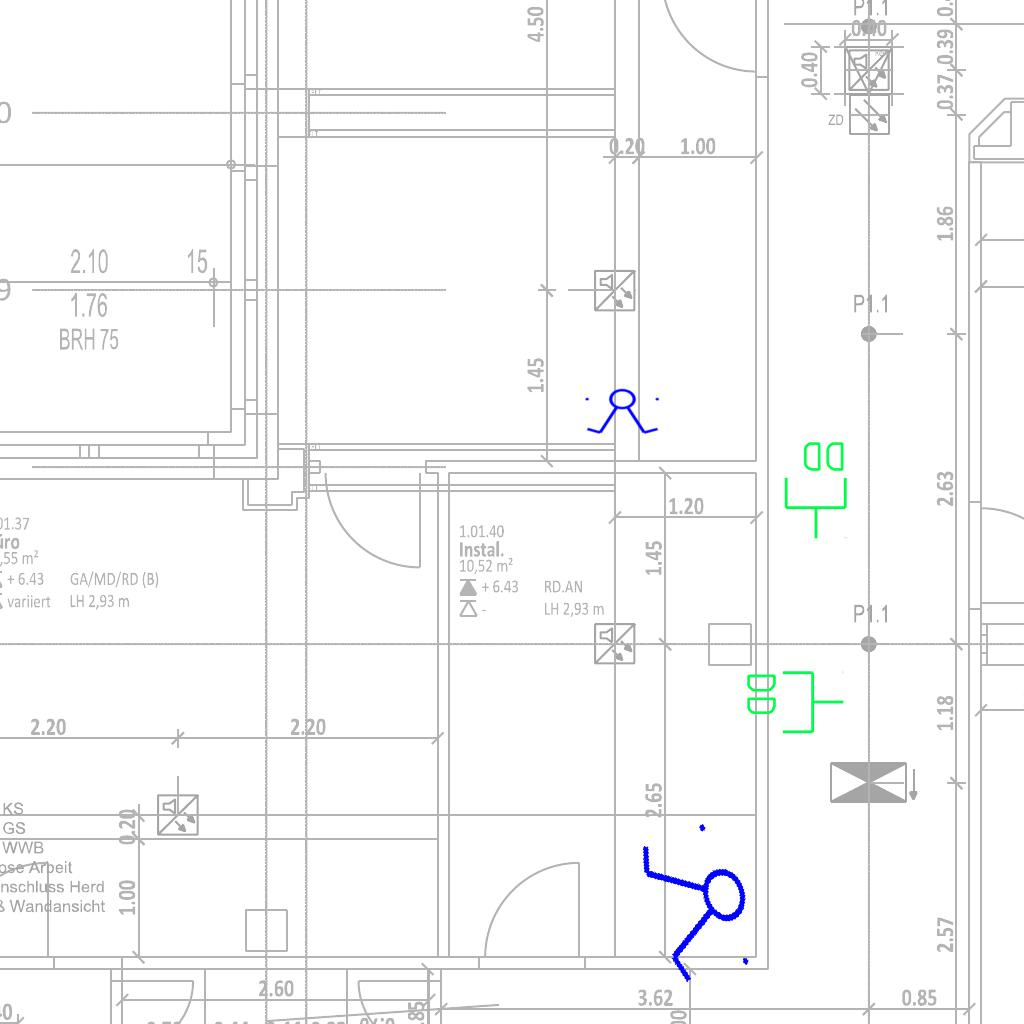Datenanschluss_zweifach: (782, 438, 851, 541), (743, 667, 846, 736)
Serienschalter: (628, 809, 772, 999), (581, 388, 665, 436)
